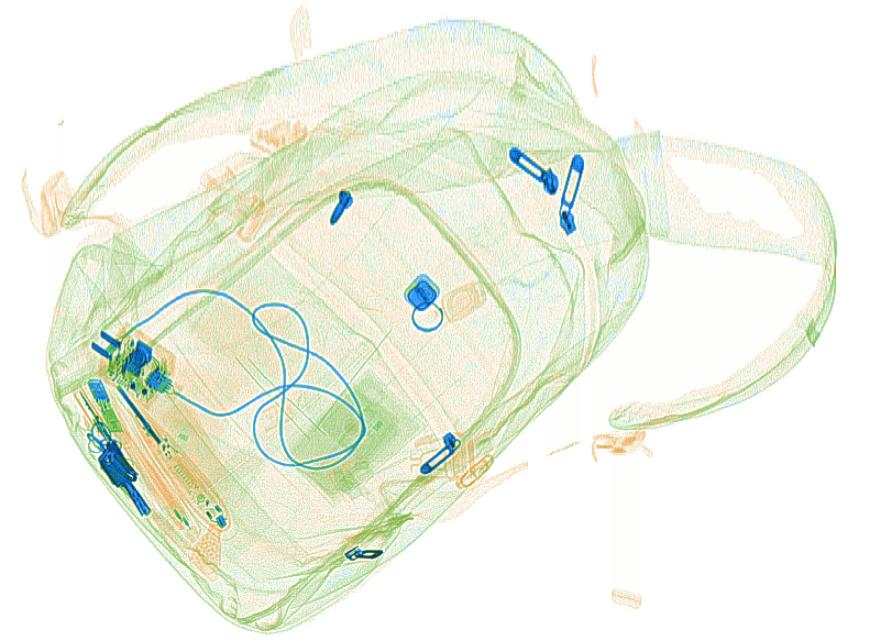USBFlashDisk: (87, 379, 122, 432)
